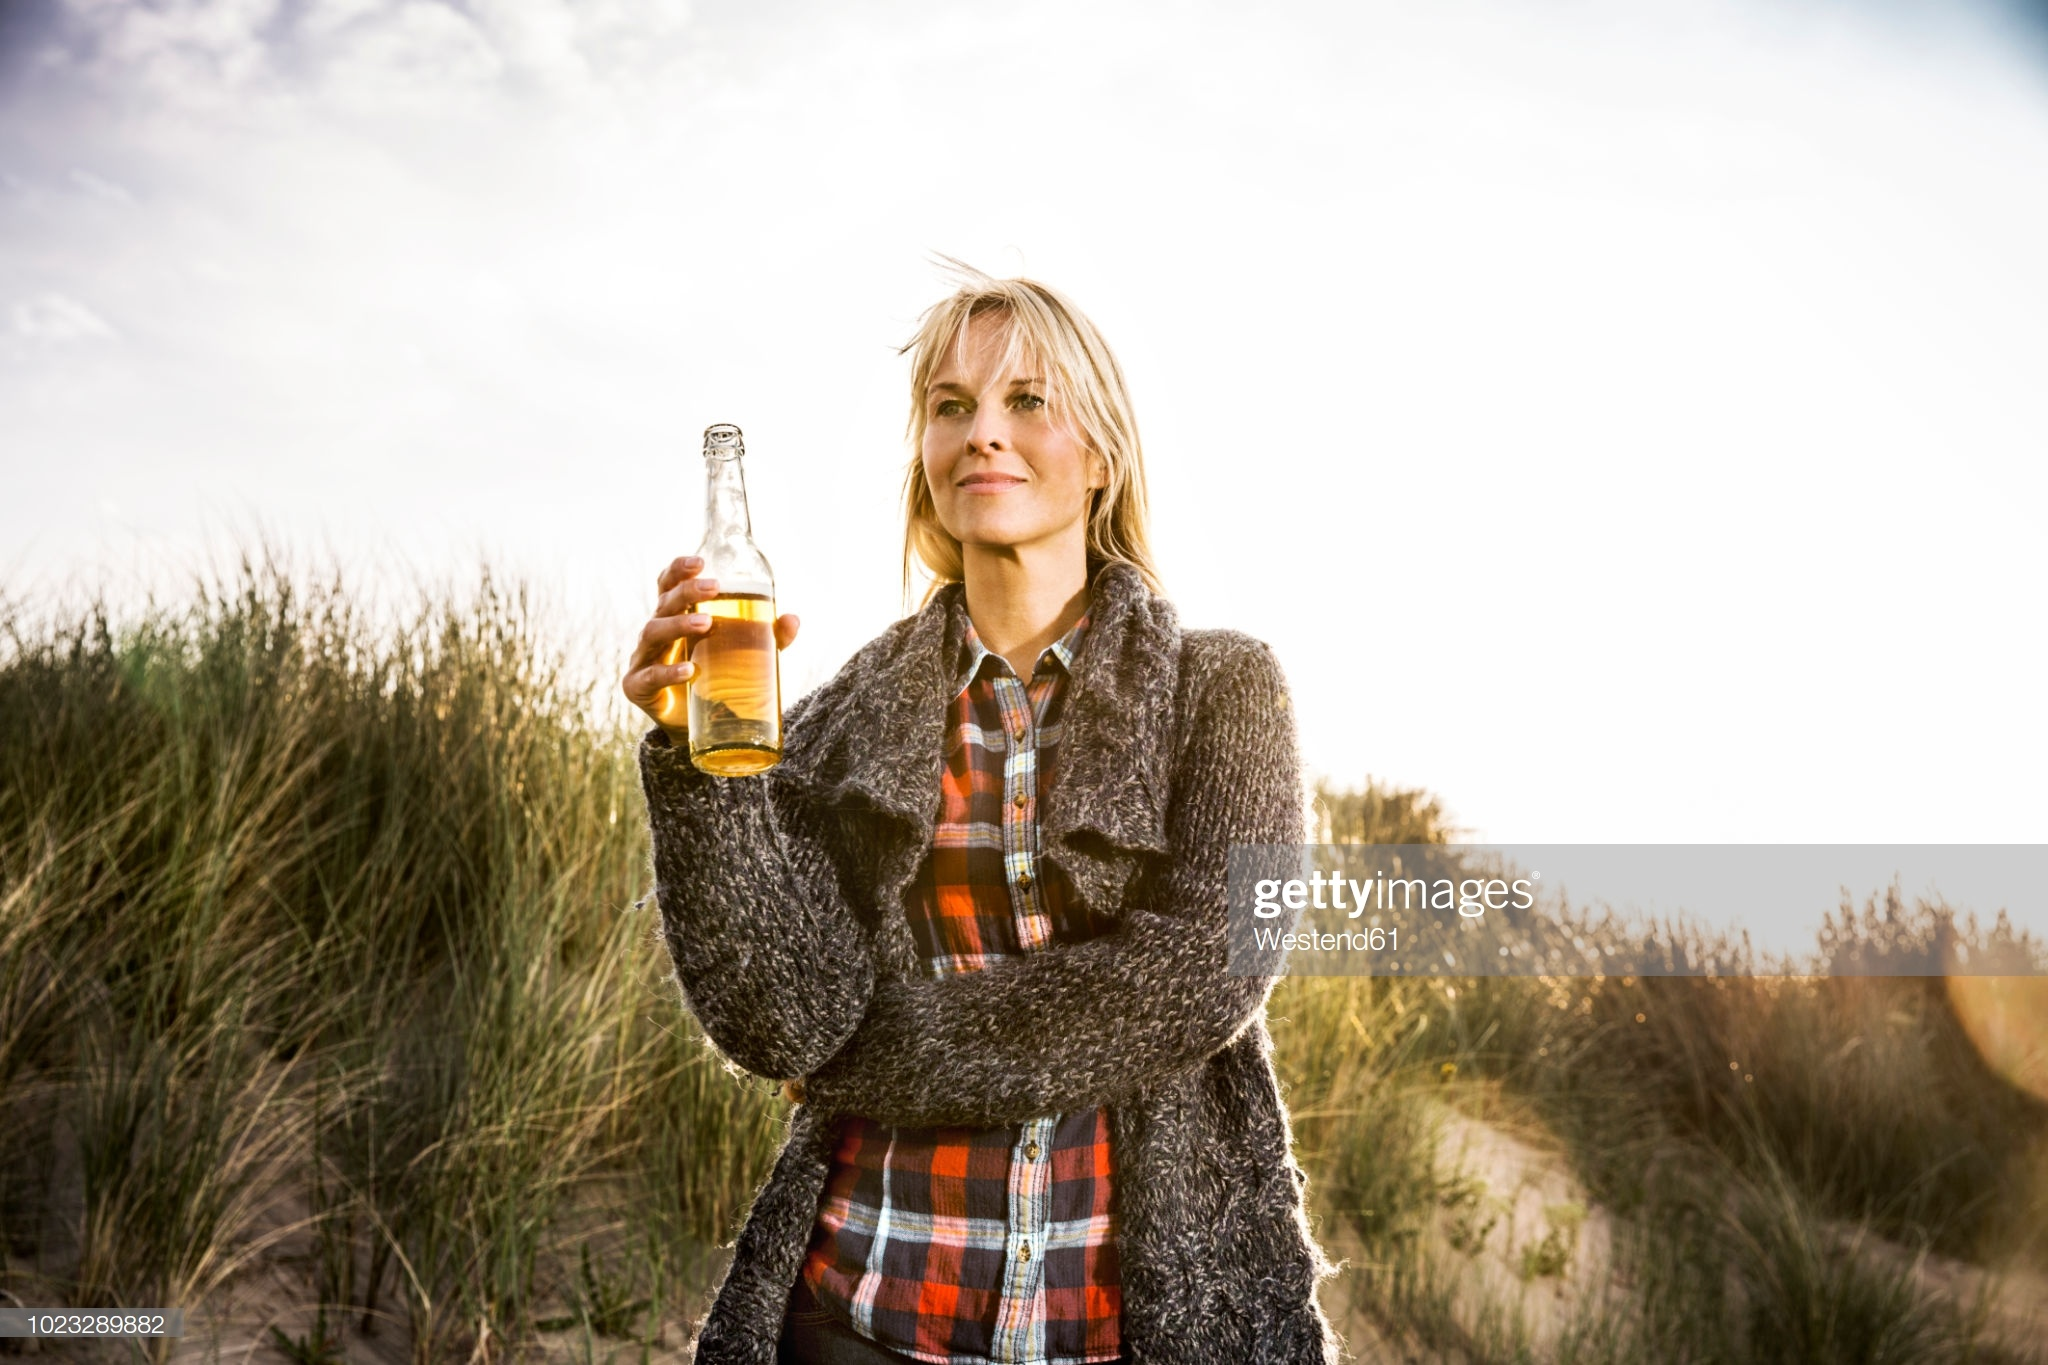beerBottle: (673, 430, 789, 769)
